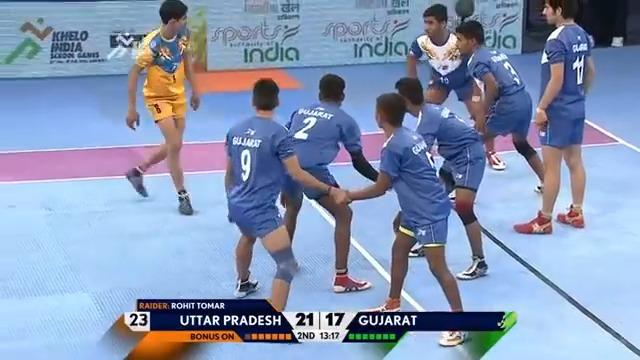Player: (329, 91, 468, 346), (223, 77, 345, 311), (276, 73, 383, 293), (392, 76, 489, 280), (513, 0, 595, 234), (453, 19, 546, 193), (405, 3, 479, 122)
Raider: (124, 0, 201, 215)
